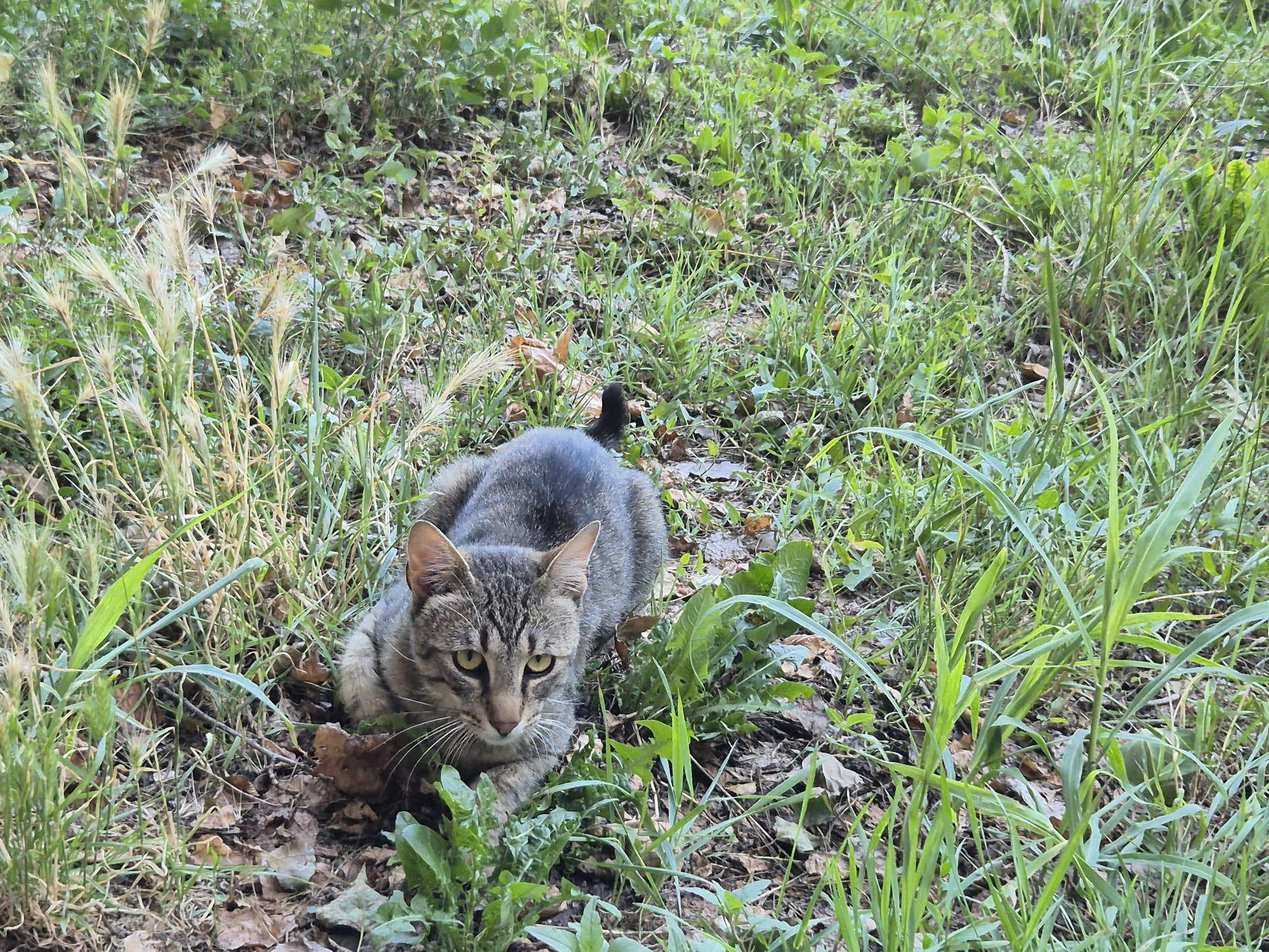macka: (337, 380, 669, 881)
